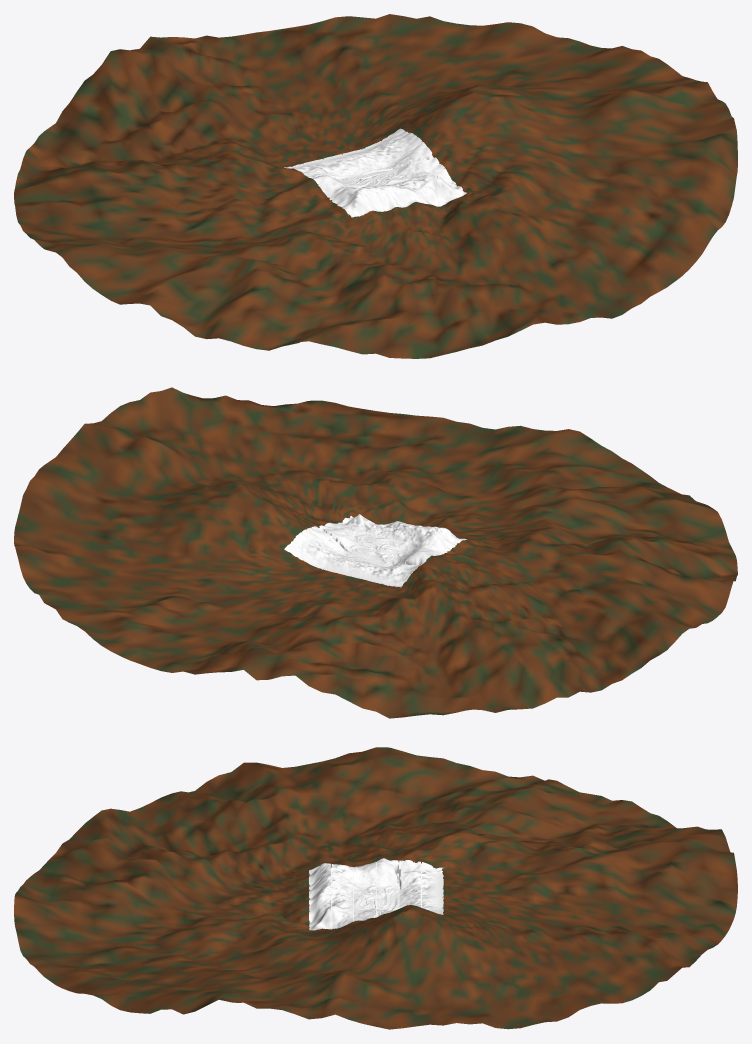
The model's file is map.glb.
3 views of the same model, one above another, from view 1: azimuth 30°, elevation 25°; view 2: azimuth 150°, elevation 25°; view 3: azimuth 270°, elevation 25° (orthographic).
Visible parts, largest first — view 1: Far_0, Far_1, Far_3, Far_5, Far_2, Far_6, Far_4, Far_7; view 2: Far_7, Far_4, Far_6, Far_5, Far_0, Far_1, Far_2, Far_3; view 3: Far_2, Far_6, Far_7, Far_3, Far_5, Far_4, Far_1, Far_0.
Part boxes in pixels (left/top/right/bottom): Far_0: left=433, top=78, right=737, bottom=221; Far_1: left=410, top=186, right=725, bottom=324; Far_3: left=62, top=185, right=351, bottom=350; Far_5: left=26, top=36, right=342, bottom=167; Far_2: left=283, top=205, right=556, bottom=358; Far_6: left=195, top=14, right=469, bottom=153; Far_4: left=14, top=150, right=318, bottom=257; Far_7: left=400, top=22, right=688, bottom=156; Far_7: left=14, top=449, right=316, bottom=583; Far_4: left=401, top=555, right=688, bottom=712; Far_6: left=26, top=549, right=341, bottom=674; Far_5: left=195, top=574, right=465, bottom=718; Far_0: left=63, top=387, right=351, bottom=527; Far_1: left=286, top=400, right=555, bottom=526; Far_2: left=416, top=429, right=725, bottom=545; Far_3: left=435, top=530, right=737, bottom=628; Far_2: left=14, top=808, right=309, bottom=918; Far_6: left=442, top=884, right=737, bottom=1000; Far_7: left=376, top=905, right=631, bottom=1029; Far_3: left=120, top=747, right=375, bottom=871; Far_5: left=442, top=801, right=737, bottom=897; Far_4: left=376, top=747, right=631, bottom=868; Far_1: left=14, top=900, right=309, bottom=1009; Far_0: left=120, top=917, right=375, bottom=1026.
Size of the model in its own units: 14919 by 1659 by 14919.
